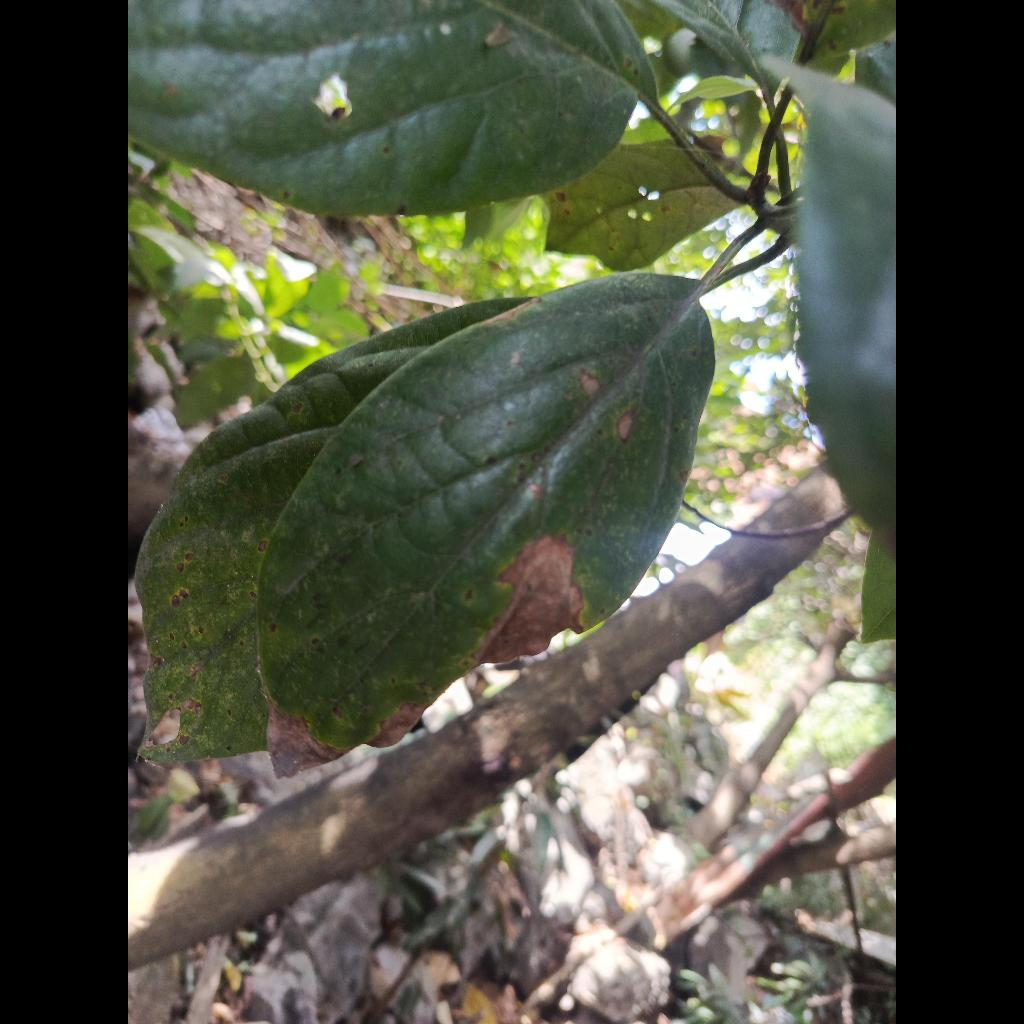antracnosis_hoja: (257, 271, 714, 754)
